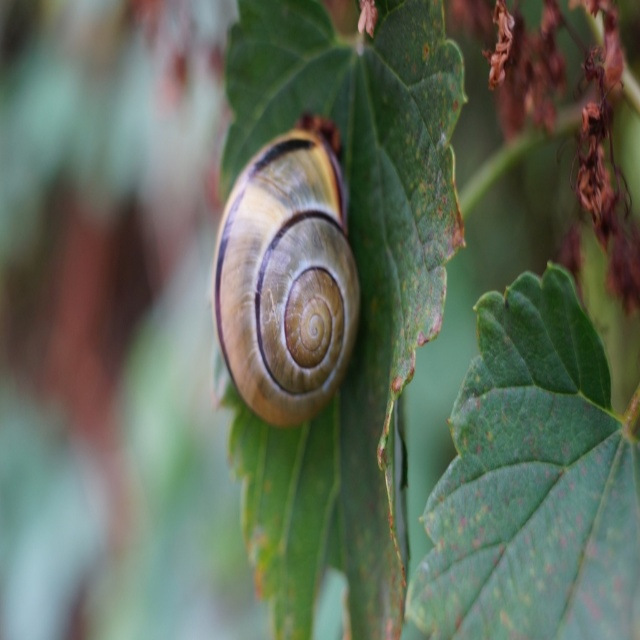Snail: (206, 111, 370, 430)
